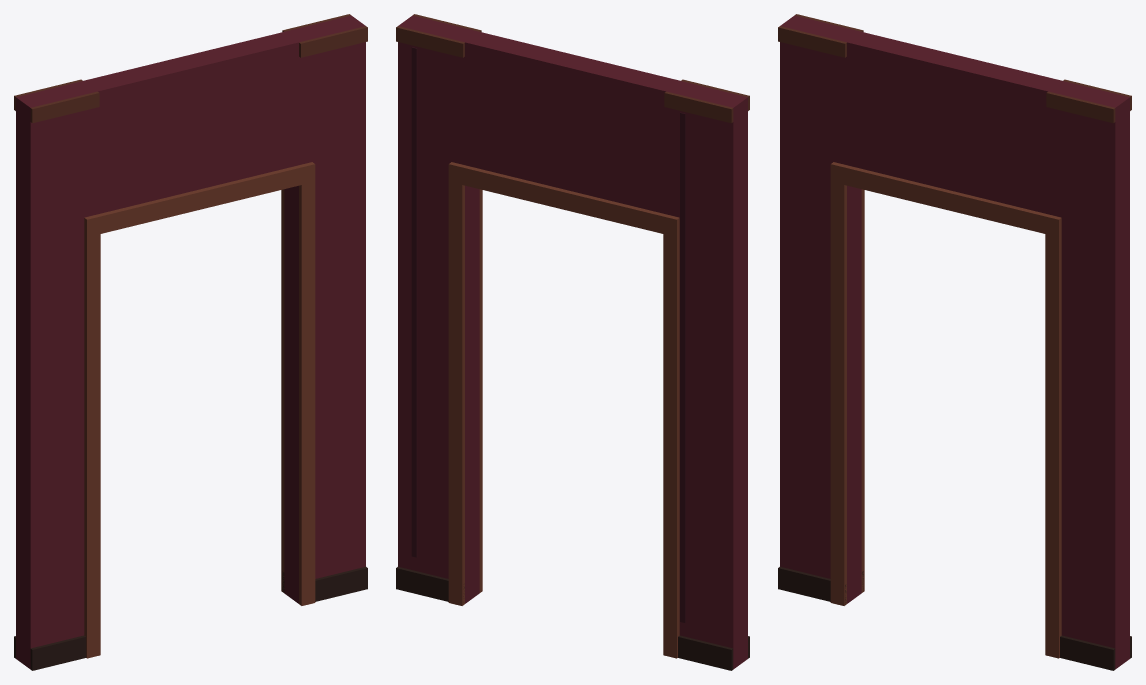
Rendered from SM_ENV_ParedePorta.fbx.
The picture shows the model from 3 angles, left to right: view 1: azimuth 30°, elevation 25°; view 2: azimuth 150°, elevation 25°; view 3: azimuth 330°, elevation 25°; orthographic projection.
Parts seen in each view (by area): view 1: SM_ENV_ParedePorta; view 2: SM_ENV_ParedePorta; view 3: SM_ENV_ParedePorta.
Boxes of the visible parts, bbox=[...] form: SM_ENV_ParedePorta: bbox=[14, 14, 367, 670]; SM_ENV_ParedePorta: bbox=[396, 14, 749, 670]; SM_ENV_ParedePorta: bbox=[778, 14, 1131, 670].
Size of the model in its own units: 2 by 3.2 by 0.21.
